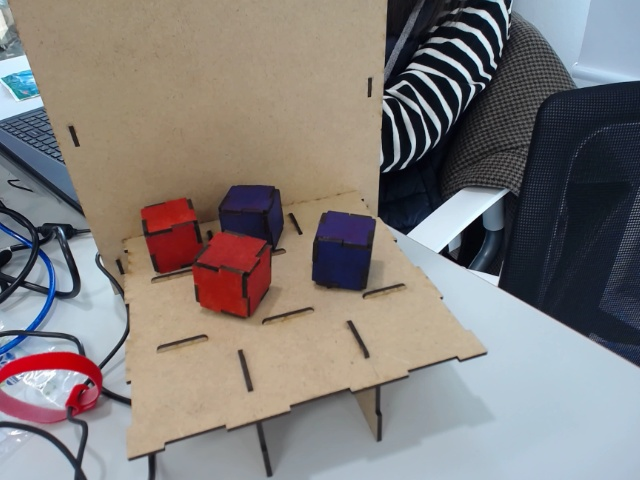blue: (312, 211, 377, 289), (219, 184, 286, 248)
red: (192, 232, 270, 318), (140, 198, 204, 273)
